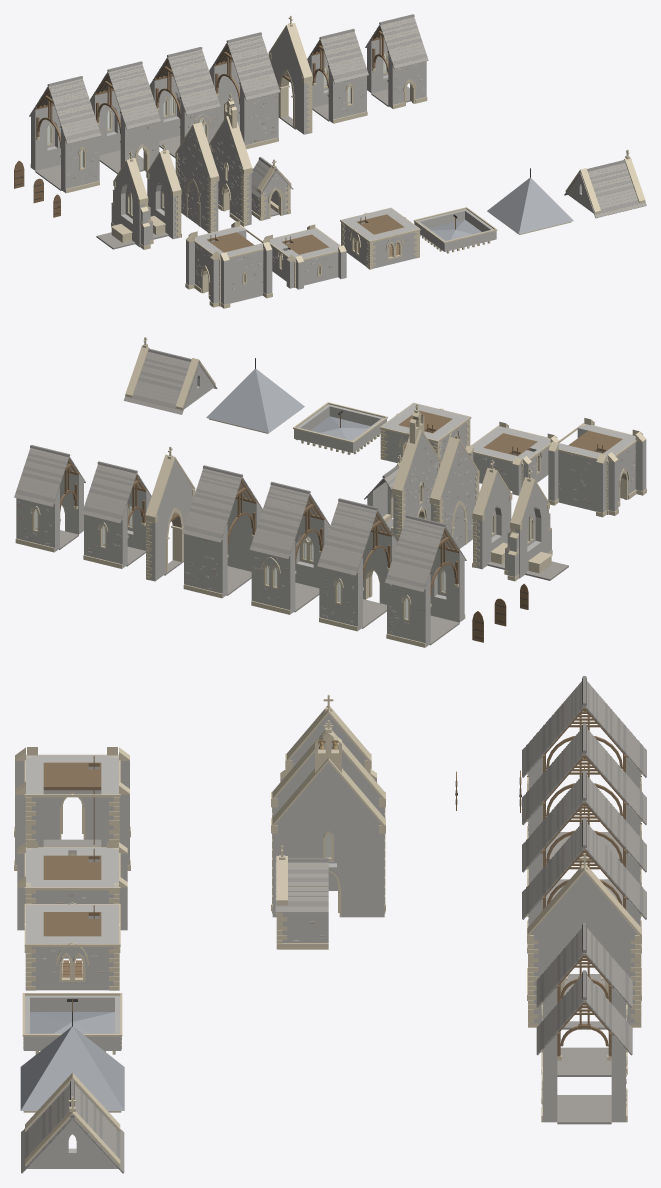
The model's file is church-kit-mendip.glb.
The picture shows the model from 3 angles, top to bottom: view 1: azimuth 30°, elevation 25°; view 2: azimuth 150°, elevation 25°; view 3: azimuth 270°, elevation 25°; orthographic projection. The views are drawn at different scales.
Visible parts, largest first — view 1: rubble (×17), dress (×11), roof (×7), roof2 (×7), timber (×7), lead (×2), floor; view 2: rubble (×17), dress (×15), roof (×7), roof2 (×7), timber (×7), lead (×2), floor (×4); view 3: rubble (×11), roof (×8), dress (×10), roof2 (×8), timber (×8), lead (×2), floor (×2).
Part boxes in pixels (x1,y1,x2,y2): rubble (×17): (31, 27, 593, 304); dress (×11): (111, 15, 645, 308); roof (×7): (29, 17, 646, 218); roof2 (×7): (30, 14, 645, 214); timber (×7): (34, 44, 404, 256); lead (×2): (429, 177, 573, 240); floor: (99, 150, 144, 173); rubble (×17): (16, 365, 646, 646); dress (×15): (15, 337, 646, 647); roof (×7): (14, 351, 466, 592); roof2 (×7): (15, 348, 465, 587); timber (×7): (227, 411, 622, 596); lead (×2): (206, 369, 370, 440); floor (×4): (226, 566, 459, 645); rubble (×11): (15, 714, 640, 1168); roof (×8): (21, 681, 646, 1173); dress (×10): (14, 694, 641, 1166); roof2 (×8): (24, 676, 643, 1169); timber (×8): (43, 706, 628, 1056); lead (×2): (20, 1012, 124, 1110); floor (×2): (557, 1047, 611, 1124).
Size of the model in its own units: 53.9 by 13.64 by 39.56.
